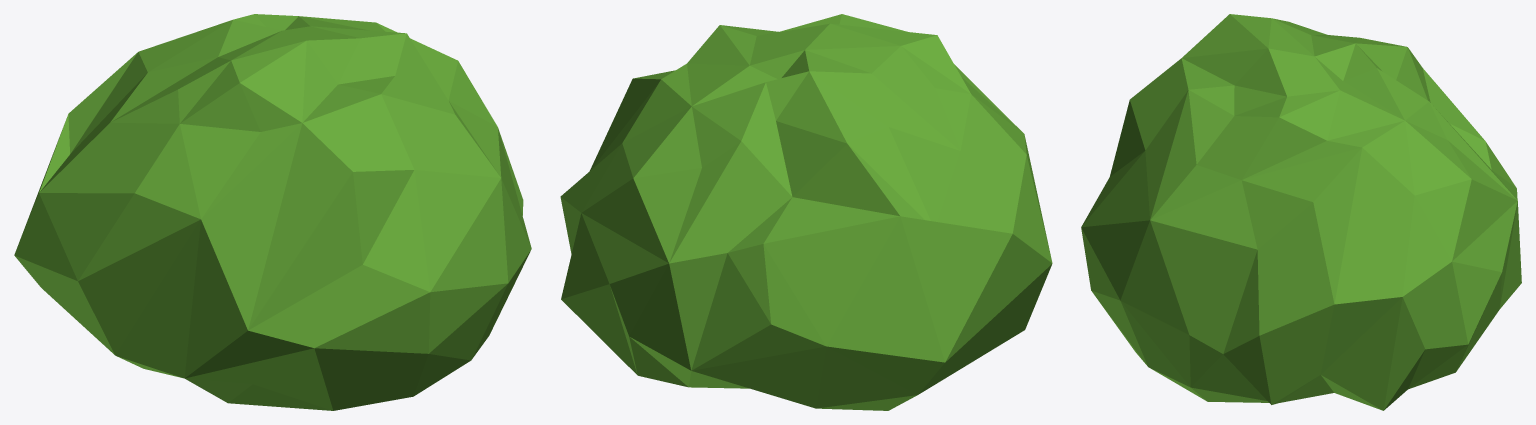
File: bushes1.fbx
3 views of the same model, side by side, from view 1: azimuth 30°, elevation 25°; view 2: azimuth 150°, elevation 25°; view 3: azimuth 270°, elevation 25° (orthographic). The views are drawn at different scales.
Visible parts, largest first — view 1: Sphere; view 2: Sphere; view 3: Sphere.
Boxes of the visible parts, box(x1,y1,x2,y2) form: Sphere: box(14, 14, 531, 410); Sphere: box(560, 14, 1052, 410); Sphere: box(1081, 14, 1521, 410).
Size of the model in its own units: 220 by 162 by 207.
